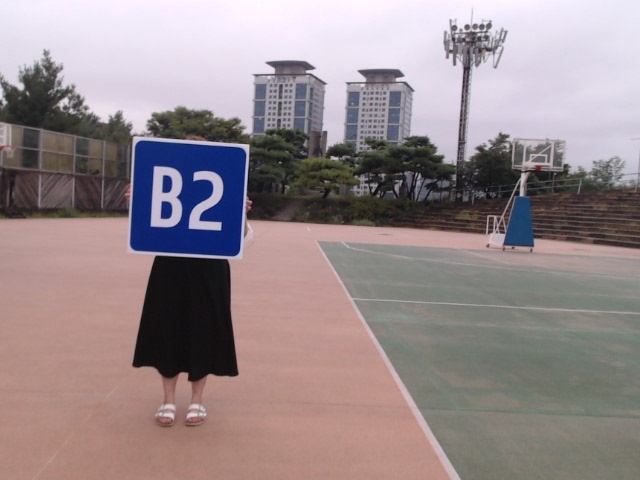delivery_b2: (128, 139, 248, 258)
